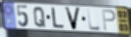5: (16, 4, 31, 29)
L: (86, 8, 102, 32), (51, 7, 66, 30)
P: (101, 8, 117, 32)
Q: (33, 6, 47, 29)
V: (63, 6, 82, 31)
